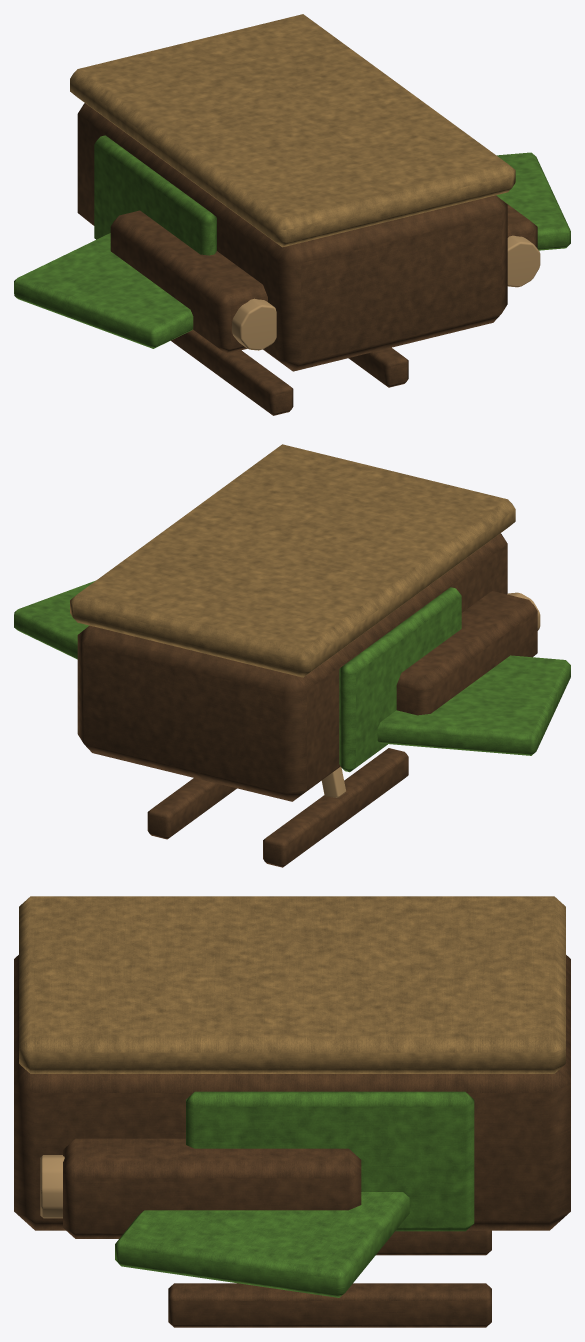
The model's file is vael_pelican.gltf.
3 views of the same model, one above another, from view 1: azimuth 30°, elevation 25°; view 2: azimuth 150°, elevation 25°; view 3: azimuth 270°, elevation 25° (orthographic). The views are drawn at different scales.
Parts seen in each view (by area): view 1: Root.035_Geometry, Door_L_Geometry; view 2: Root.035_Geometry, Door_L_Geometry; view 3: Root.035_Geometry, Door_R_Geometry.
Part boxes in pixels (x1,y1,x2,y2): Root.035_Geometry: (14,14,570,415); Door_L_Geometry: (94,135,216,255); Root.035_Geometry: (14,444,570,867); Door_L_Geometry: (339,587,461,772); Root.035_Geometry: (14,896,570,1327); Door_R_Geometry: (186,1091,474,1231).
Size of the model in its own units: 3.08 by 1.41 by 2.22.
5 materials, 3 textured.
